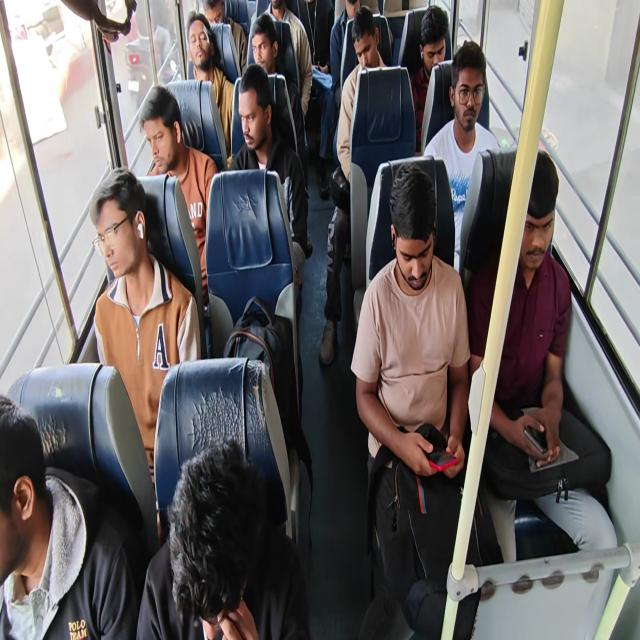person: (171, 437, 284, 640), (95, 165, 171, 353), (0, 413, 58, 640), (498, 152, 558, 298), (383, 172, 444, 305), (139, 75, 180, 216), (455, 61, 493, 155), (239, 69, 270, 181), (301, 2, 332, 103), (412, 19, 450, 95), (348, 21, 387, 88), (188, 15, 212, 85), (250, 18, 278, 66), (338, 0, 369, 36), (205, 0, 232, 39), (258, 0, 296, 19)
